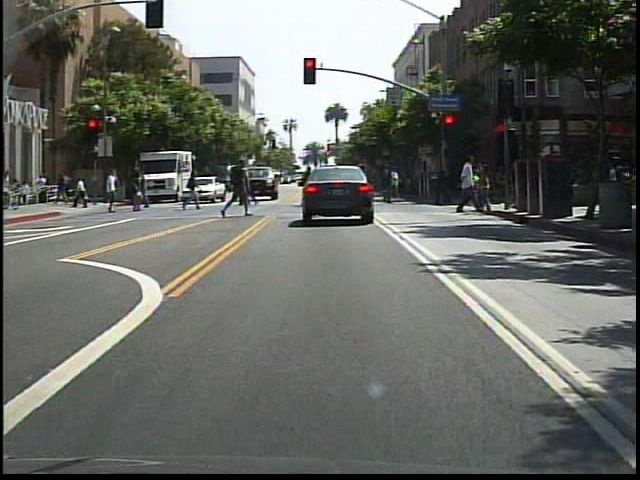person: (223, 154, 253, 224), (454, 152, 486, 215), (358, 164, 381, 219), (103, 168, 125, 215), (184, 168, 205, 214), (130, 170, 145, 215), (241, 168, 258, 207), (140, 172, 153, 213)
